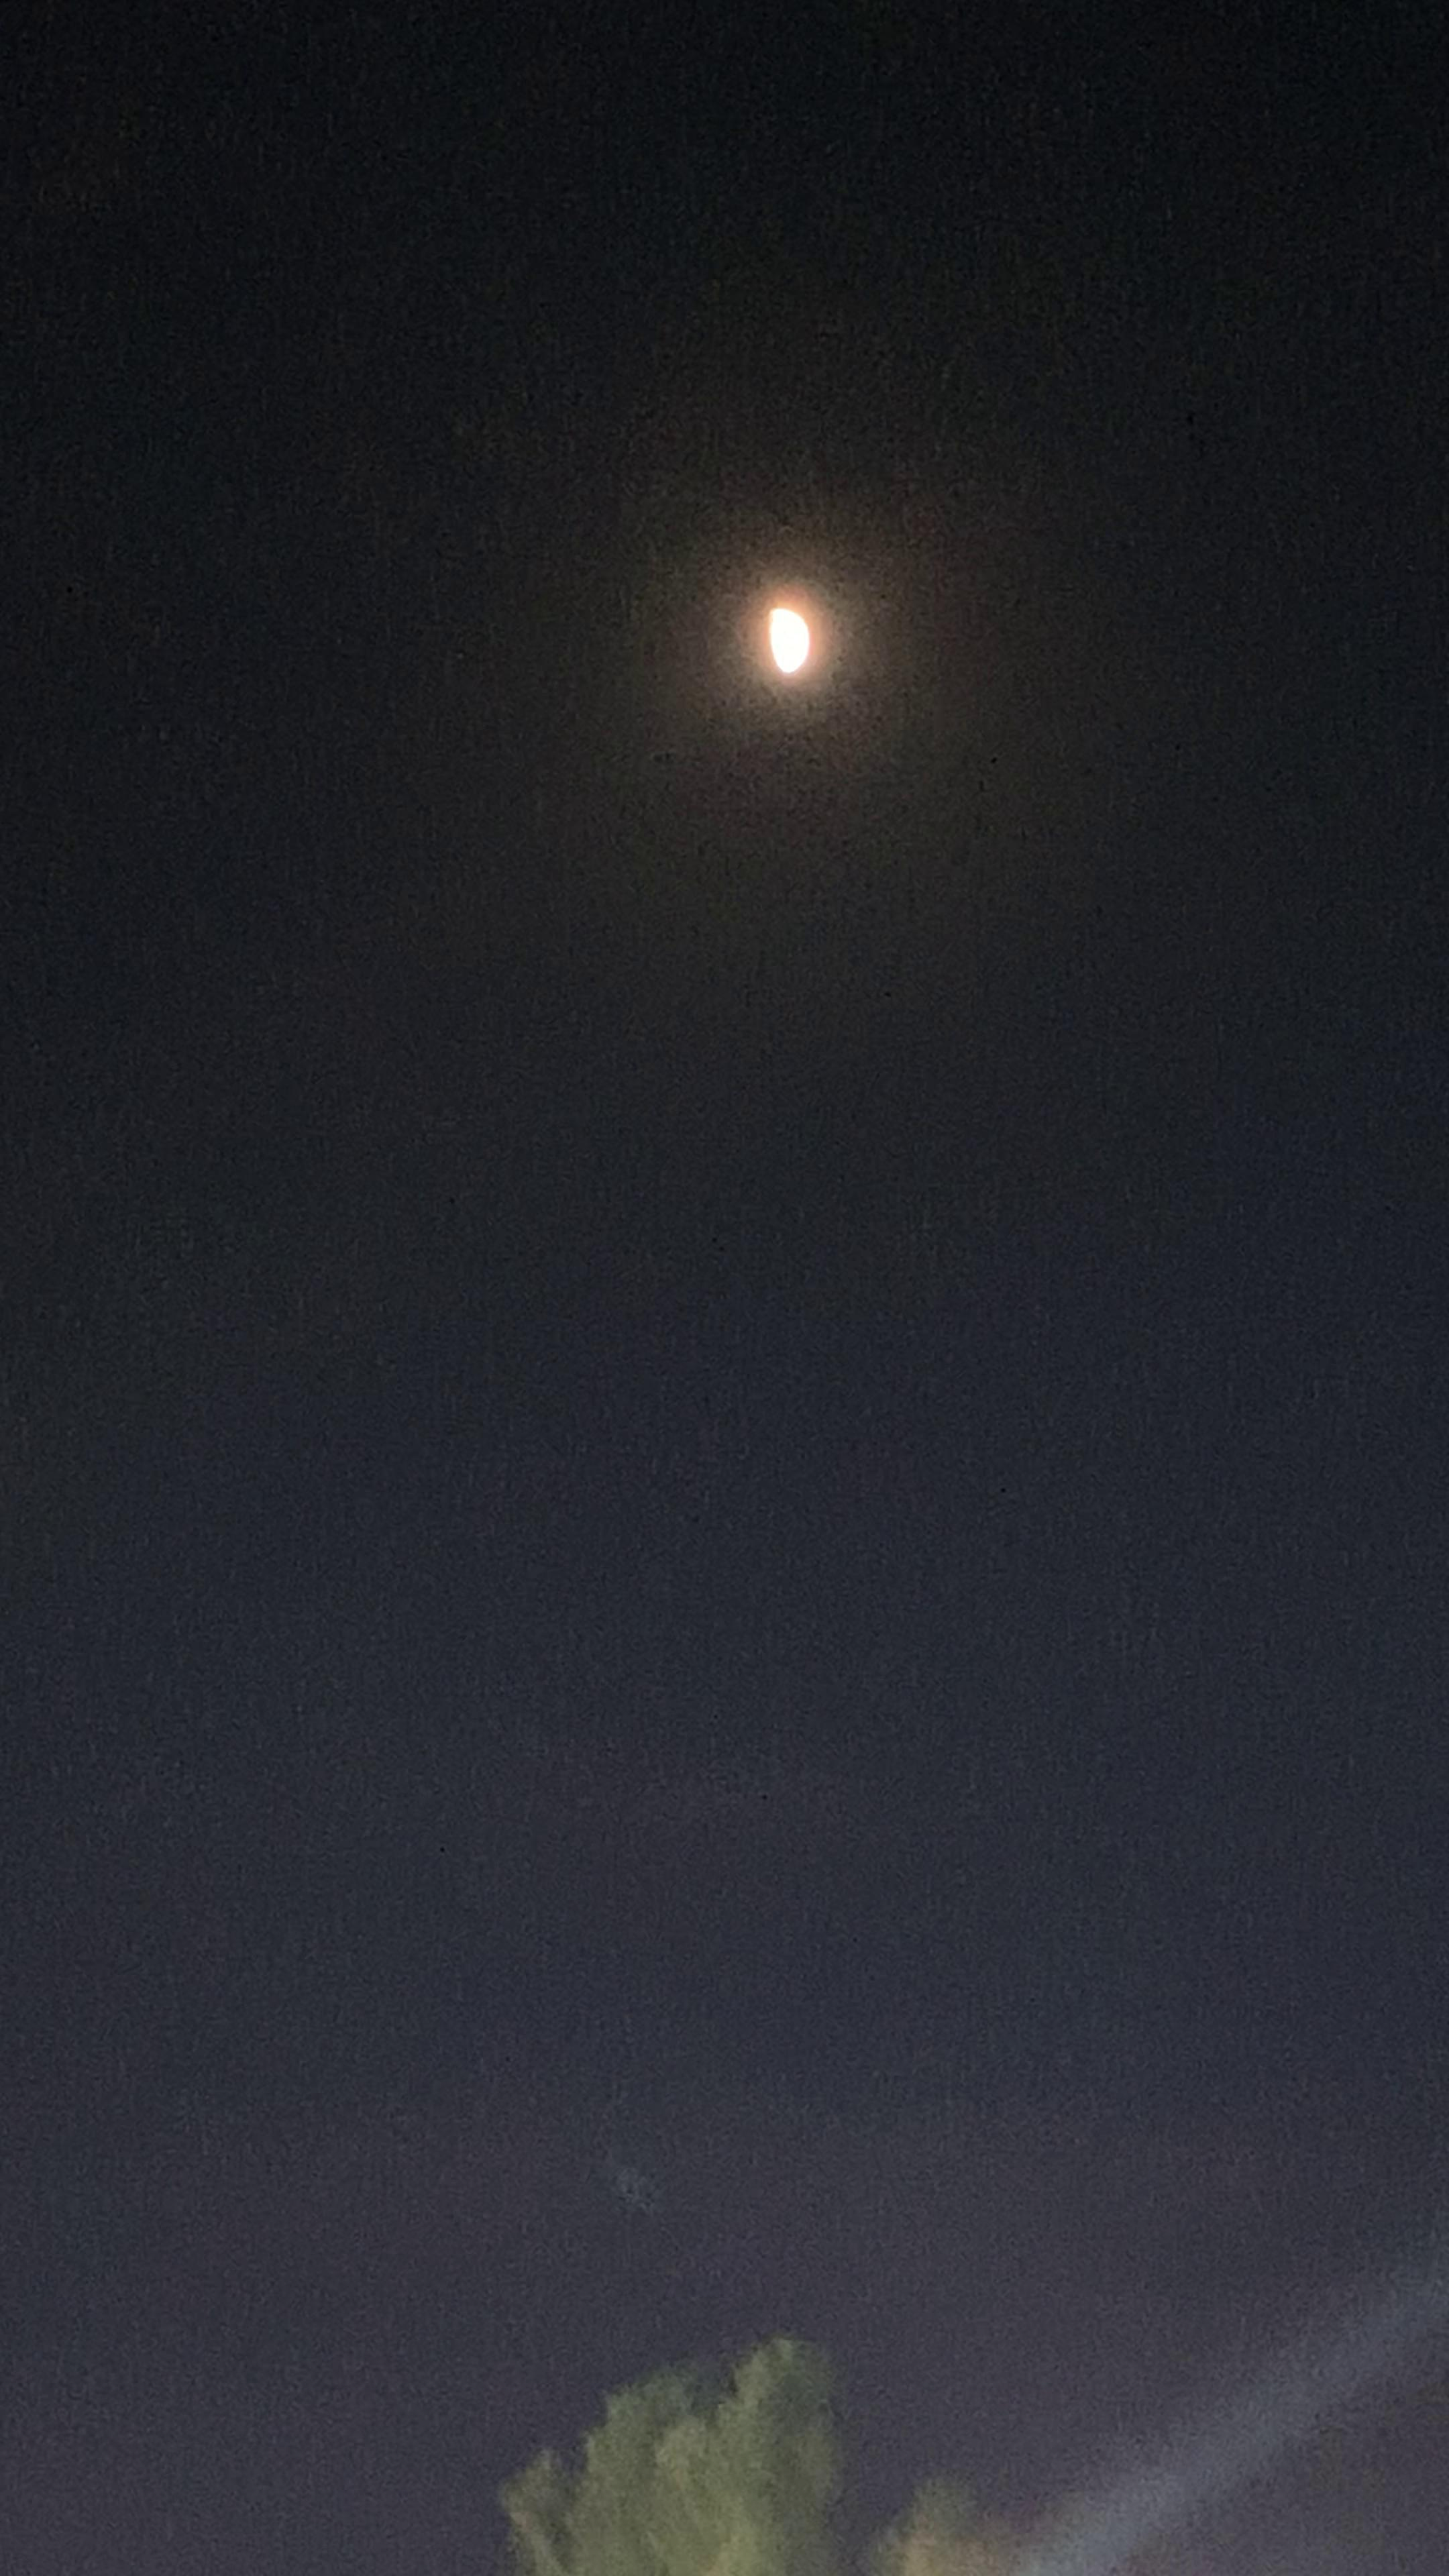moon: (711, 570, 872, 717)
